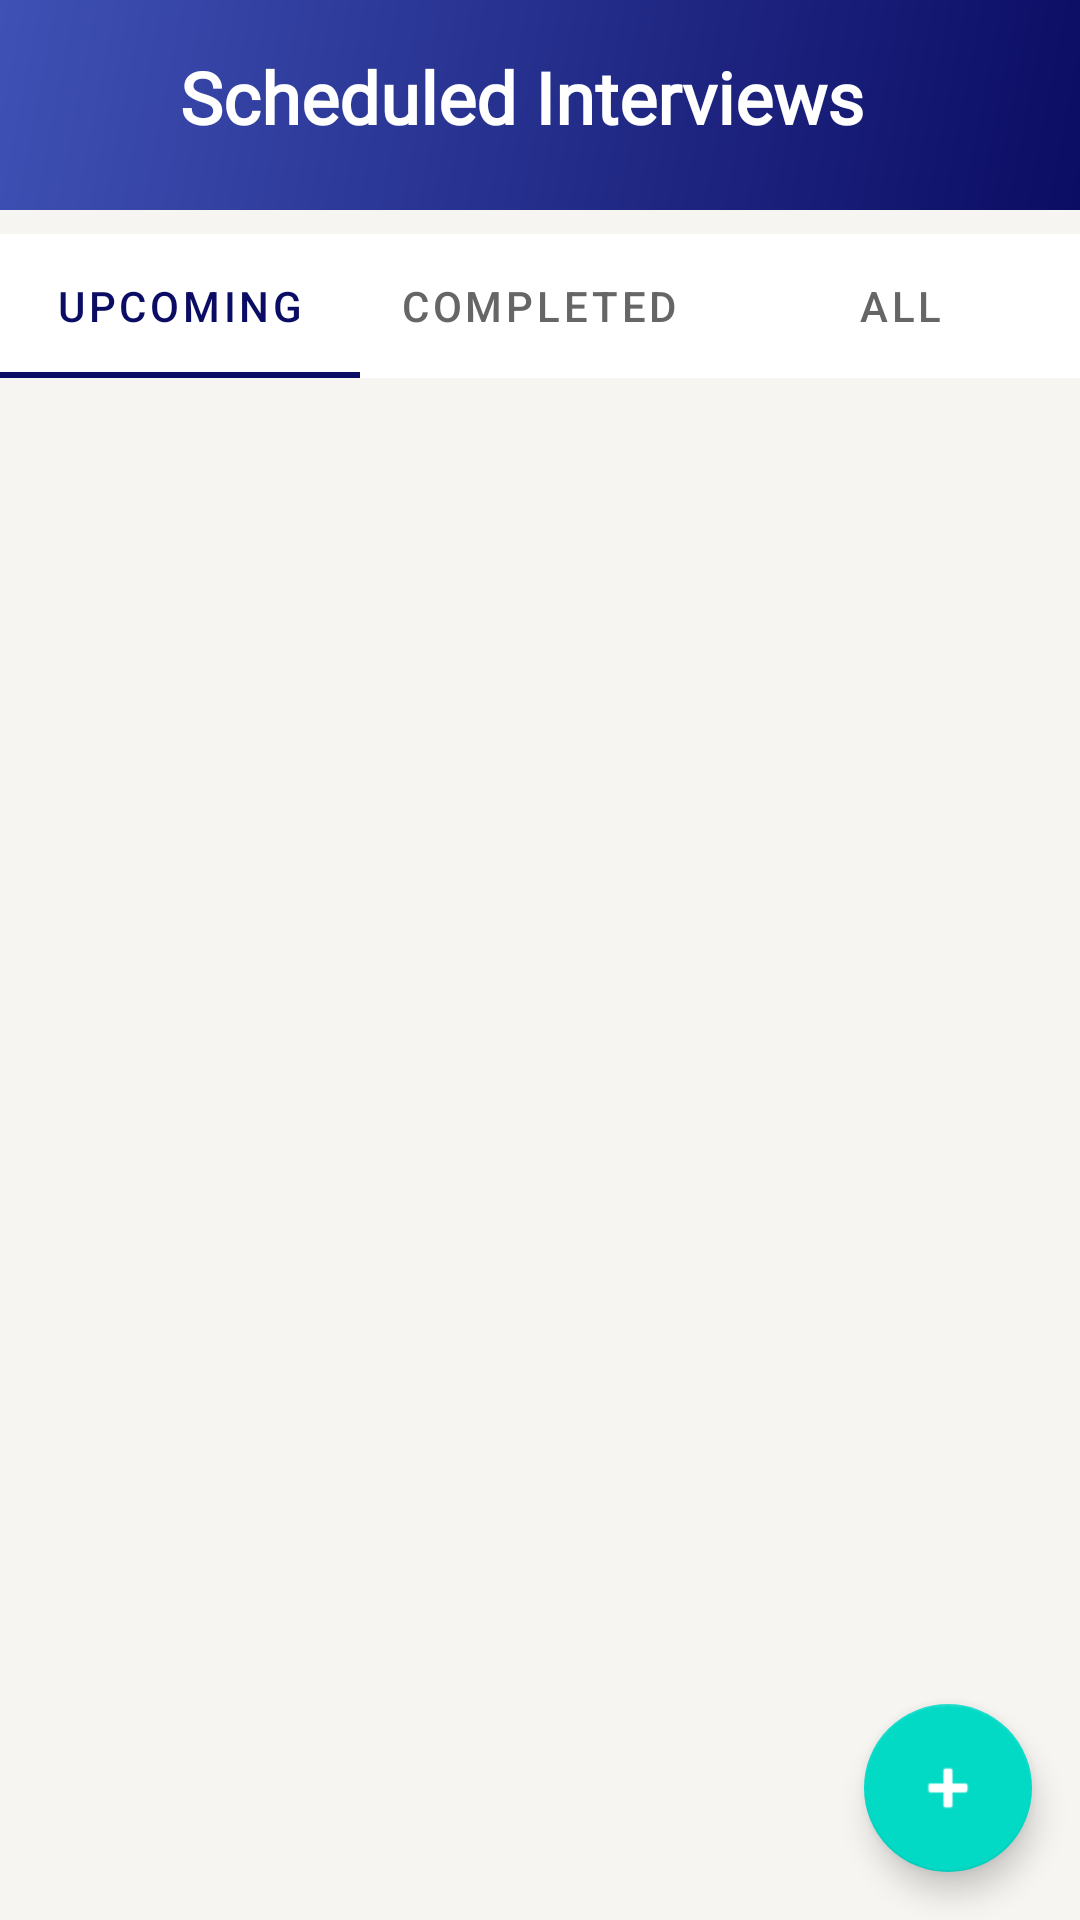

Icons on this 1080×1920 Android screen, each with its box as bbox=[x1, y1, x2, y2]:
Schedule new interview: bbox=[864, 1704, 1032, 1872]
